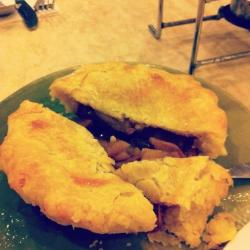apple_pie: (4, 57, 235, 235)
